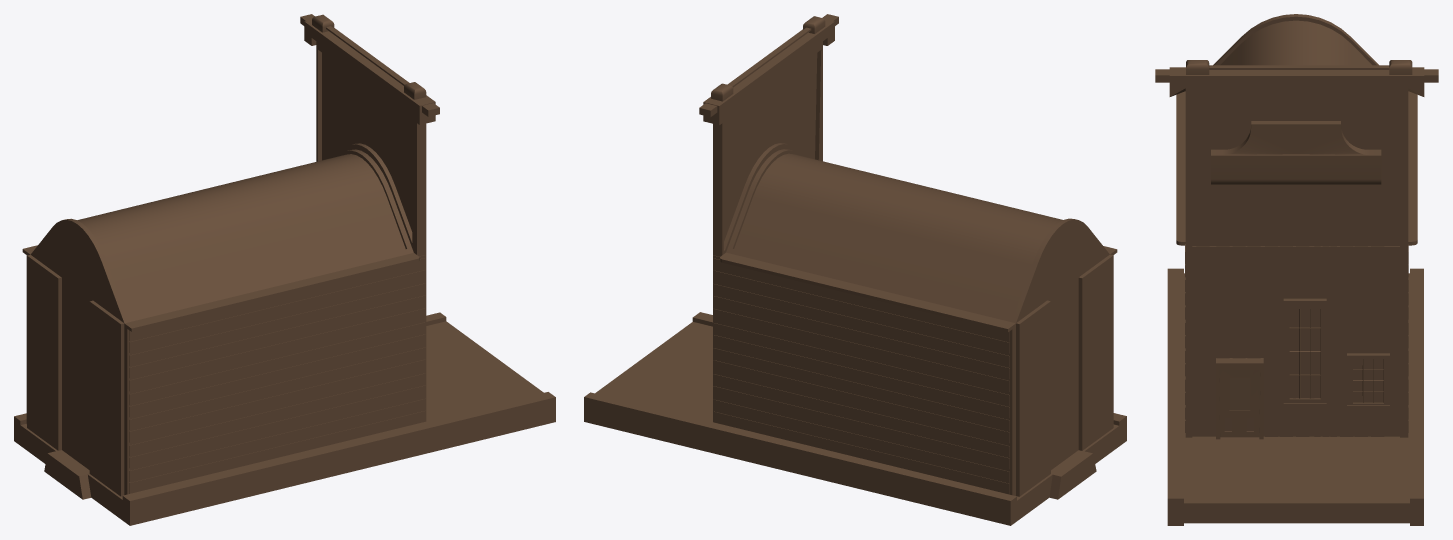
The model's file is store_building.fbx.
3 renders of one model, left to right at view 1: azimuth 30°, elevation 25°; view 2: azimuth 150°, elevation 25°; view 3: azimuth 270°, elevation 25°, orthographic. The views are drawn at different scales.
Visible parts, largest first — view 1: store_building; view 2: store_building; view 3: store_building.
Boxes of the visible parts, <box> form: store_building: <box>14,14,555,525</box>; store_building: <box>584,14,1126,525</box>; store_building: <box>1155,14,1438,525</box>.
Size of the model in its own units: 26.77 by 21.07 by 13.66.
